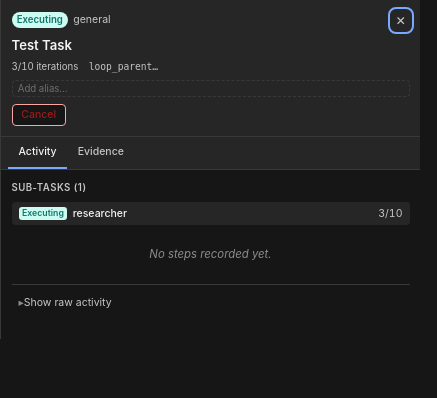
Test: TaskDetailPanel › child loops › breadcrumb back-button returns focus to the primary loop
Click the button with test id "child-item".
click(43, 213)  # box [12, 202, 410, 225]
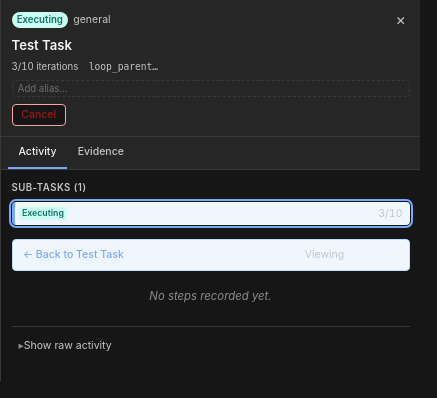
Click the button with test id "focus-back".
click(73, 255)  # box [20, 245, 127, 264]
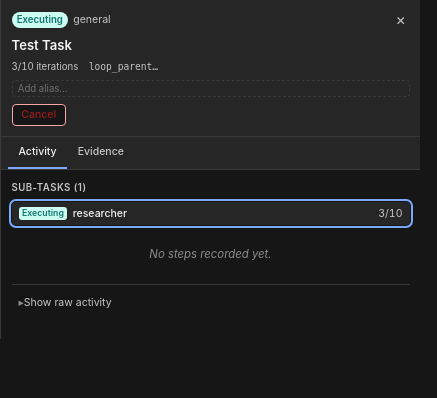
Expected: the element with test id "focus-breadcrumb" is gone
